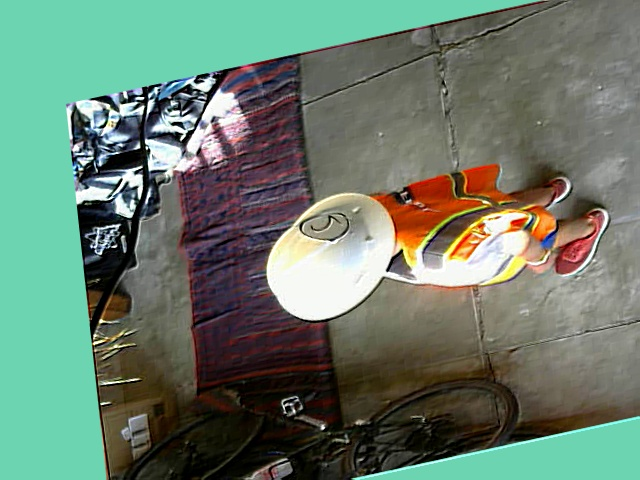two: (298, 209, 350, 247)
